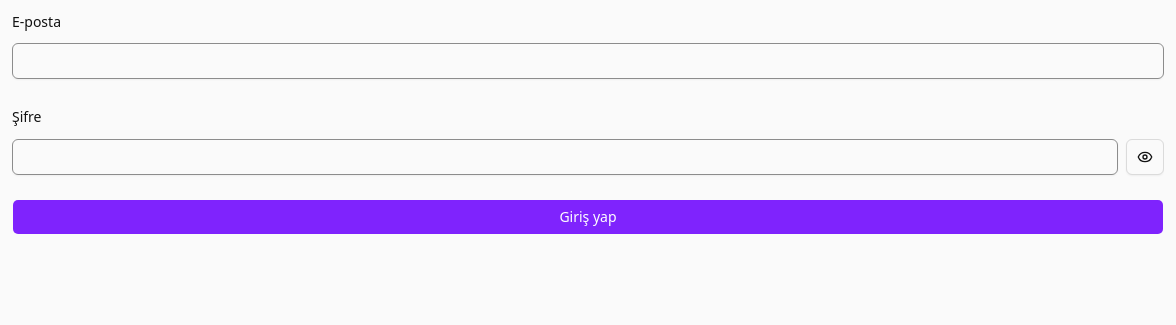
Test: LoginForm › does not say which of the two was wrong
In the field labelled "E-posta": (588, 61) [12,43,1164,79], type "ayse@example.com"
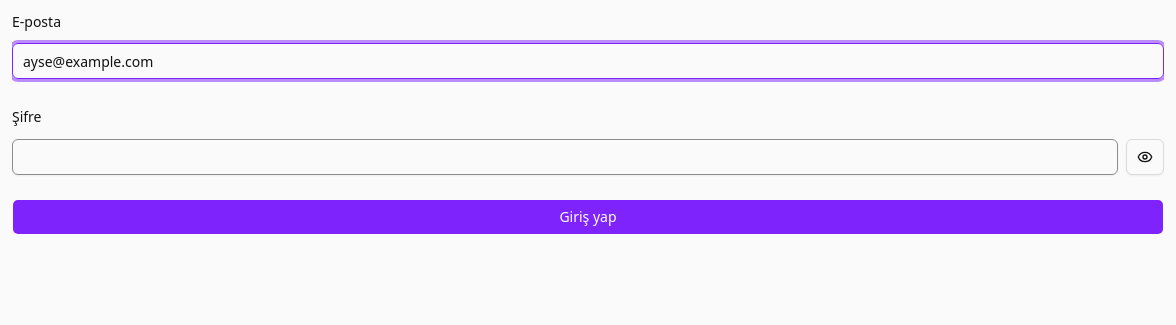
In the password field labelled "Şifre": (565, 156) [12,138,1118,174], type "yanlış"
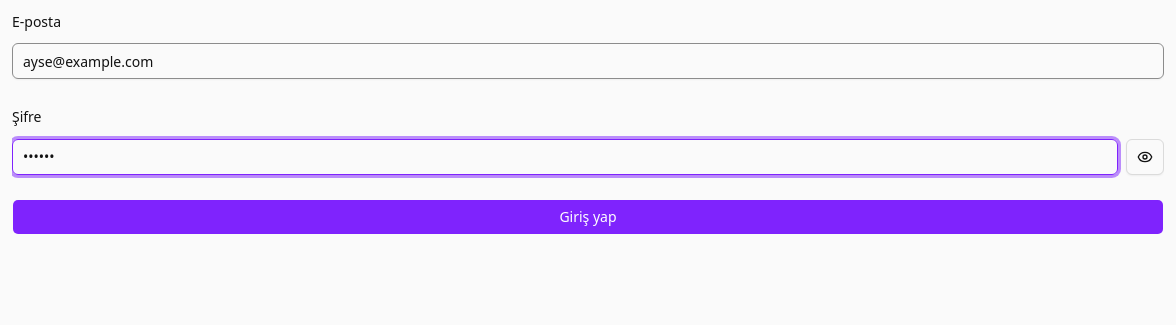
Click the button "Giriş yap": (588, 216) [12,198,1164,234]
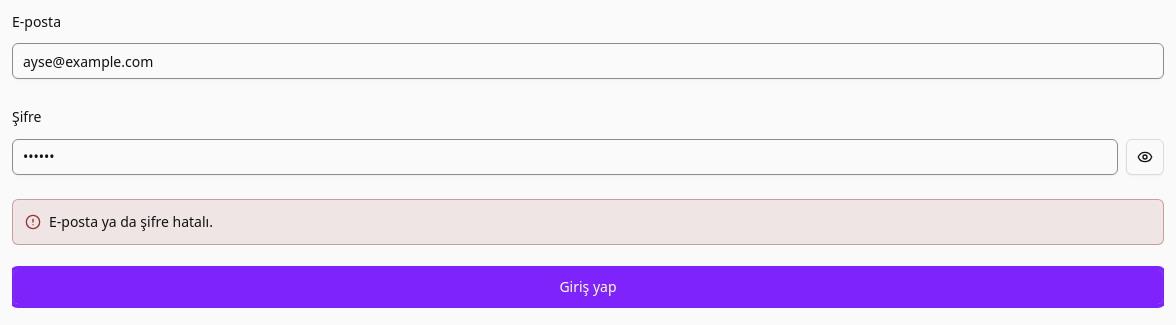
expect the message reads "E-posta ya da şifre hatalı.": met, box [49,212,213,230]
